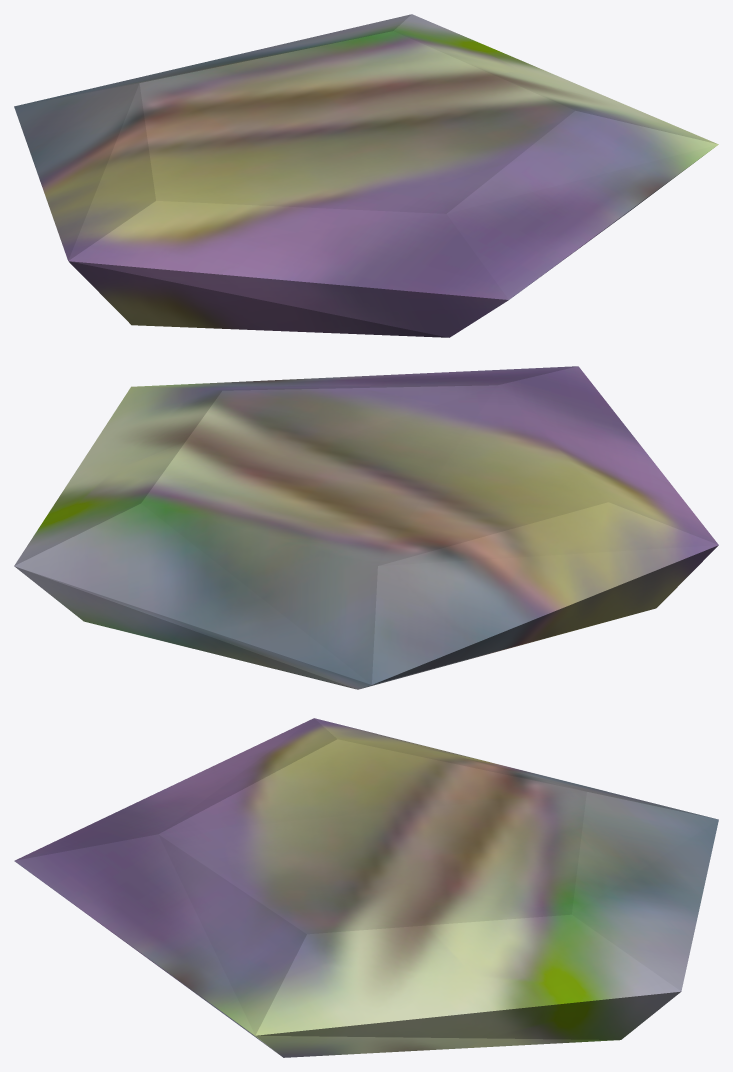
The model's file is PlateTree_1_Plate_12.gltf.
The picture shows the model from 3 angles, top to bottom: view 1: azimuth 30°, elevation 25°; view 2: azimuth 150°, elevation 25°; view 3: azimuth 270°, elevation 25°; orthographic projection.
Visible parts, largest first — view 1: PlateTree_1_Plate_12; view 2: PlateTree_1_Plate_12; view 3: PlateTree_1_Plate_12.
Boxes of the visible parts, <box> form: PlateTree_1_Plate_12: <box>14,14,718,337</box>; PlateTree_1_Plate_12: <box>14,366,718,689</box>; PlateTree_1_Plate_12: <box>14,718,718,1057</box>.
Bounding box in the file's own units: 0.9455 × 0.1664 × 0.9265.
Materials: 1 (1 with a texture image).
